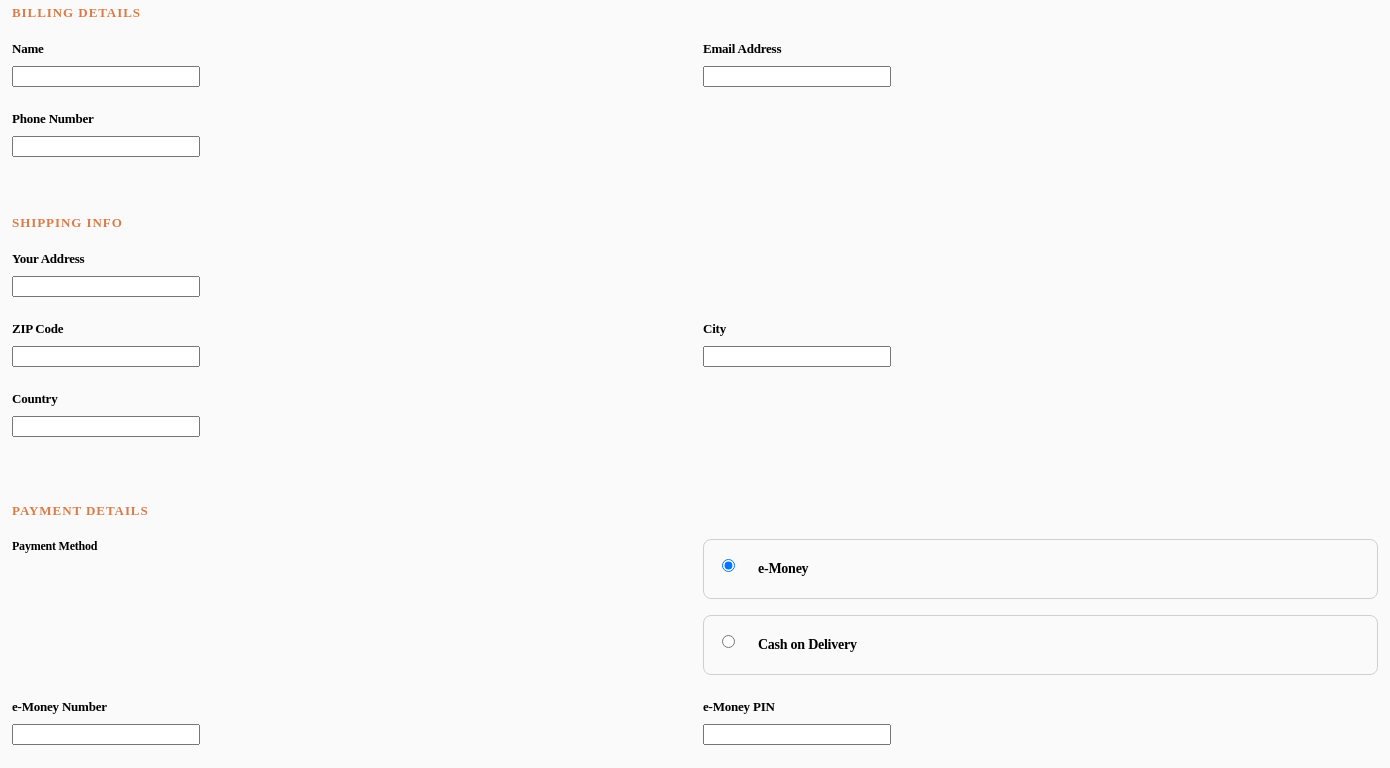
Scenario: BillingDetails › Interactions › Form validation › displays incorrect format error message in Email Address field when incorrect format is inputted
Type "test" into the field labelled "Email Address". click: (797, 76)
box: x1=703 y1=66 x2=891 y2=87
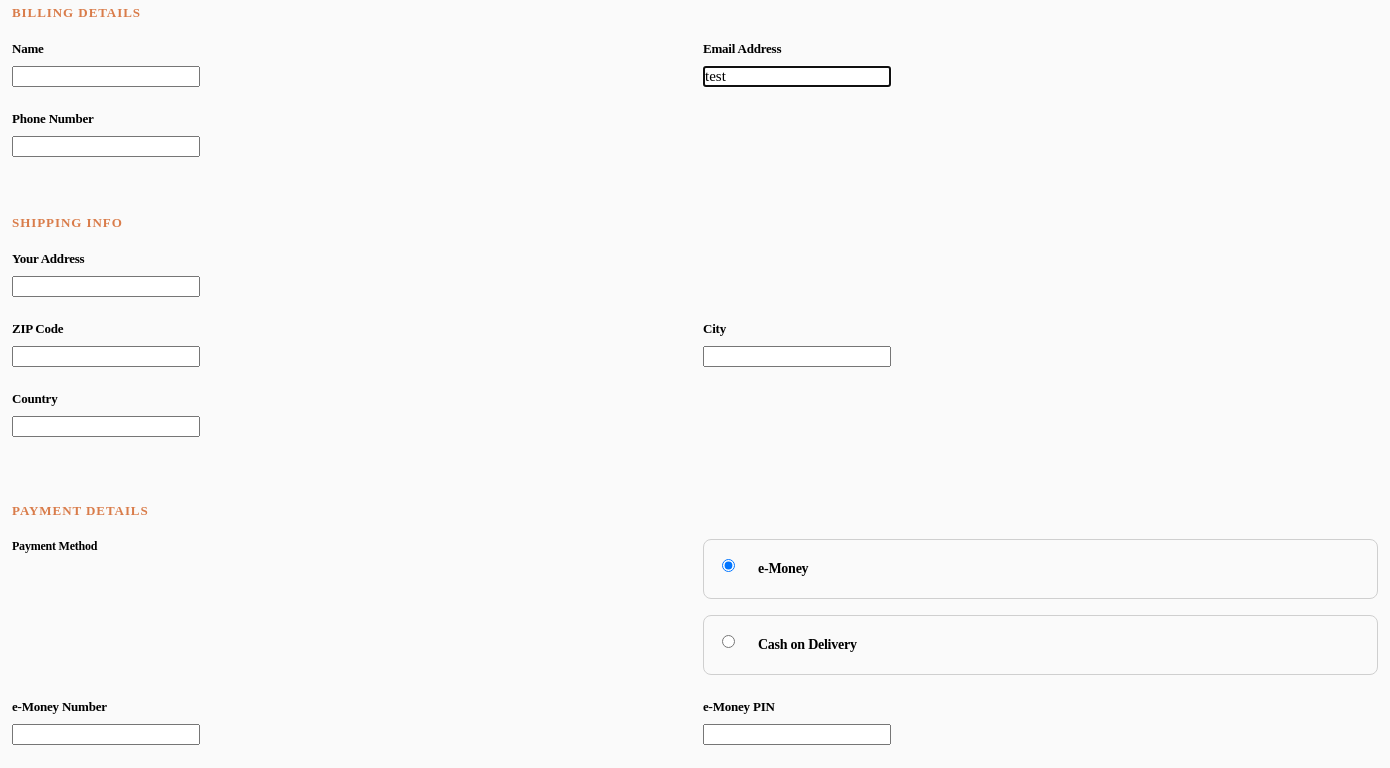
Click the element that starts with "Billing Details". click: (695, 384)
box: x1=12 y1=0 x2=1378 y2=767
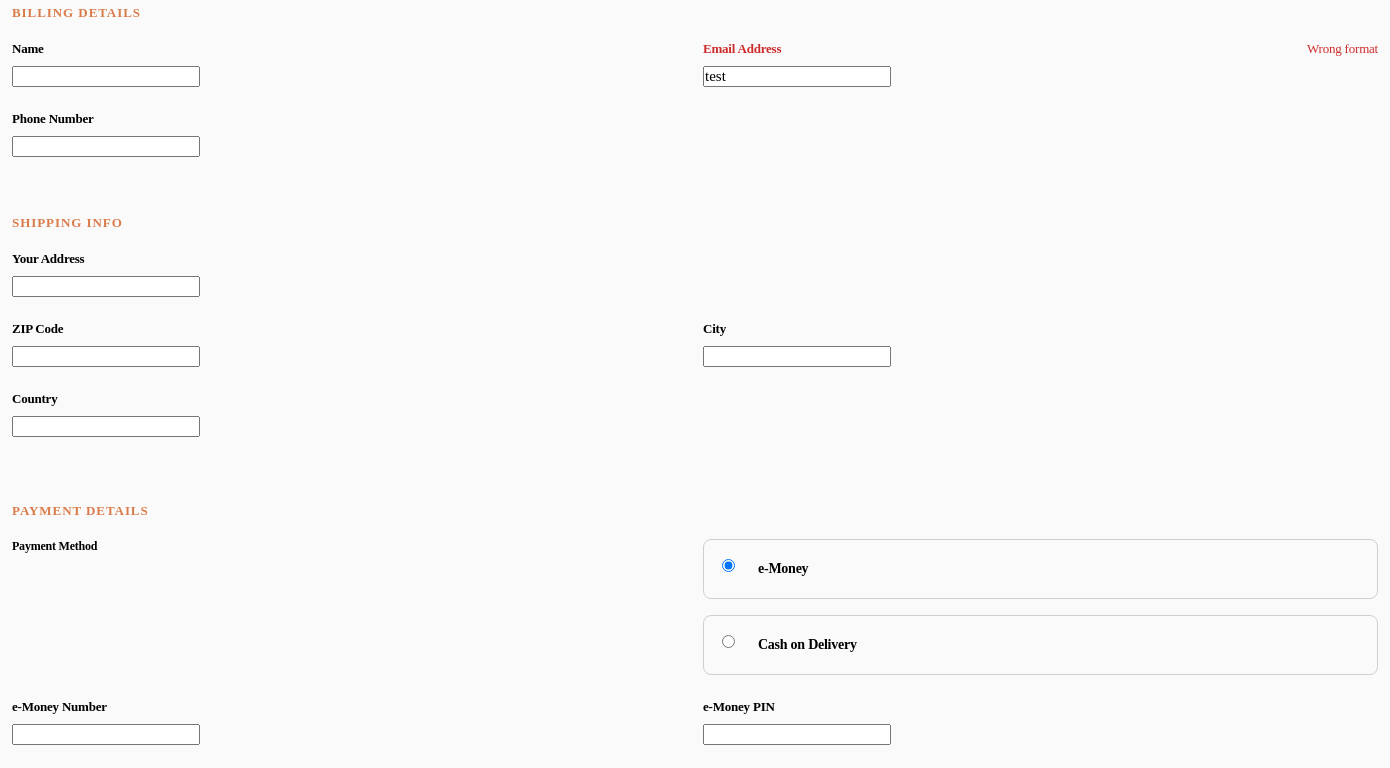
Result: the text "Wrong format" is shown at x1=1307 y1=41 x2=1378 y2=57
